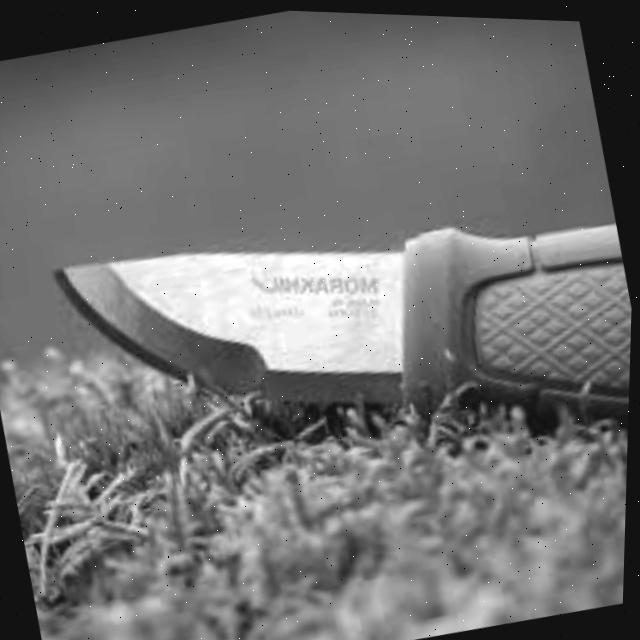Knife: (48, 147, 637, 555)
